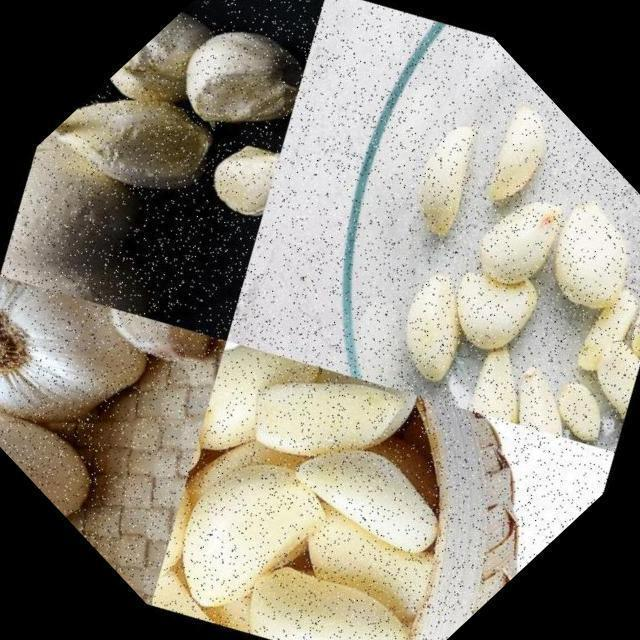garlic: (55, 251, 570, 640), (260, 41, 640, 540), (0, 69, 257, 372), (0, 217, 205, 505), (34, 41, 248, 255), (0, 326, 181, 559), (133, 0, 346, 188), (87, 0, 250, 155), (78, 261, 228, 414), (176, 110, 306, 241)
